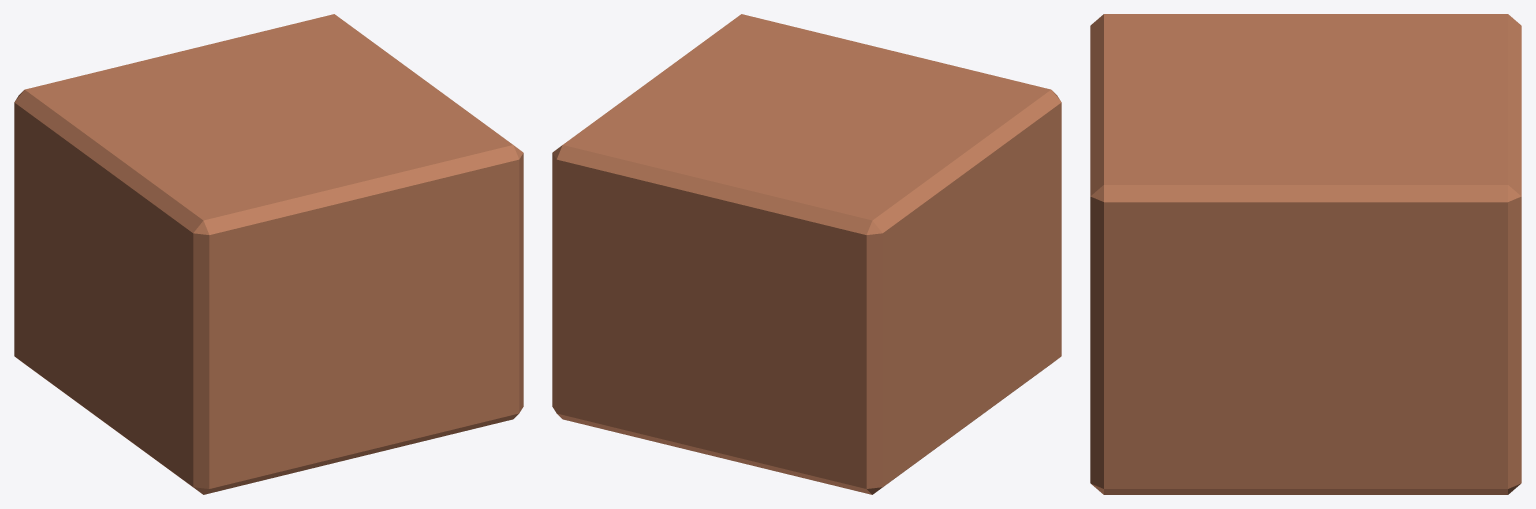
Rendered from HouseQuoin.fbx.
3 views of the same model, side by side, from view 1: azimuth 30°, elevation 25°; view 2: azimuth 150°, elevation 25°; view 3: azimuth 270°, elevation 25° (orthographic). The views are drawn at different scales.
Parts seen in each view (by area): view 1: Body.013; view 2: Body.013; view 3: Body.013.
Boxes of the visible parts, x1=… form: Body.013: x1=14, y1=14, x2=523, y2=494; Body.013: x1=552, y1=14, x2=1061, y2=494; Body.013: x1=1090, y1=14, x2=1521, y2=494.
Size of the model in its own units: 0.504 by 0.4 by 0.504.
